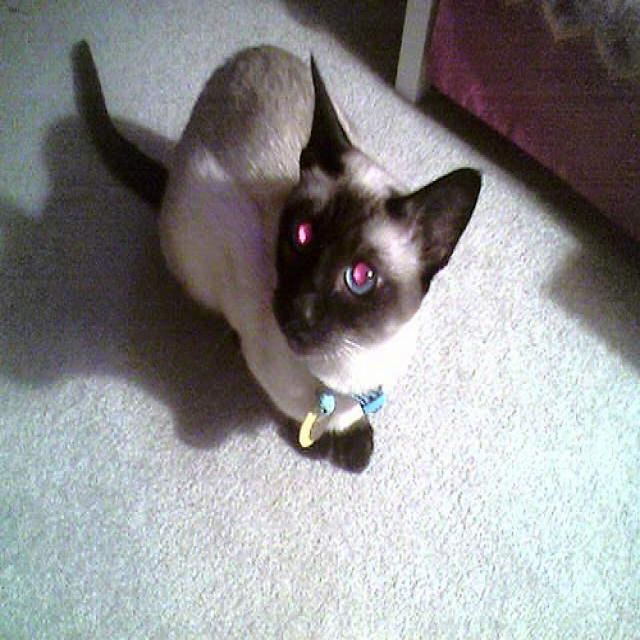cat: (269, 51, 479, 353)
